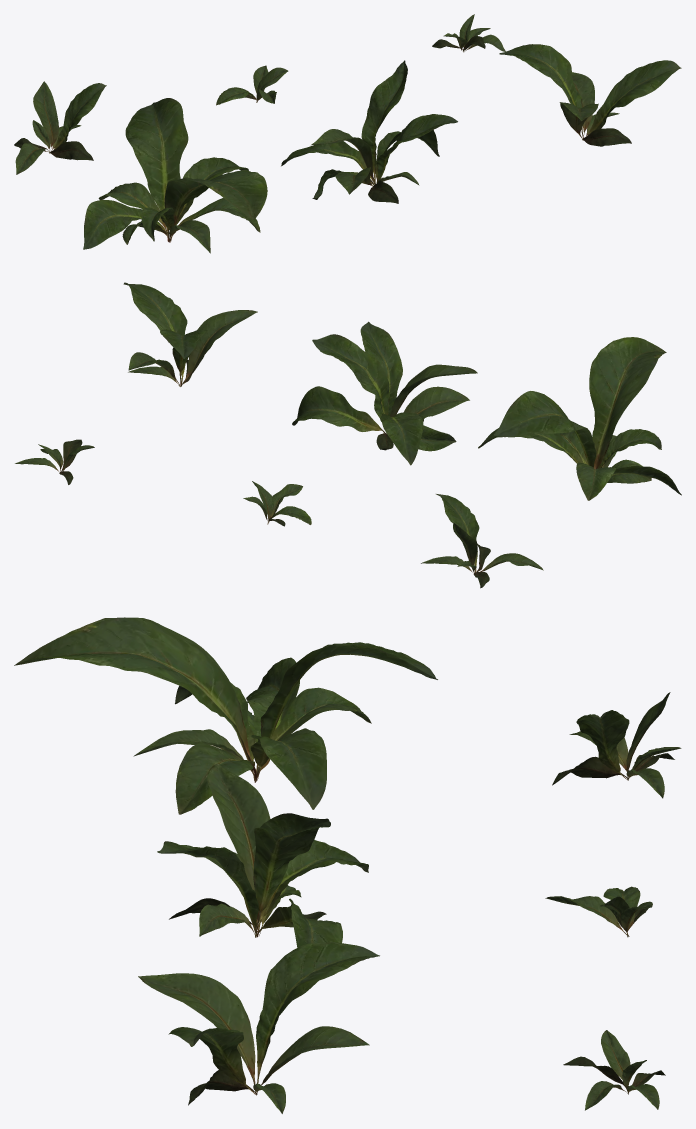
Rendered from anthurium_botany_01.glb.
3 views of the same model, one above another, from view 1: azimuth 30°, elevation 25°; view 2: azimuth 150°, elevation 25°; view 3: azimuth 270°, elevation 25° (orthographic). The views are drawn at different scales.
Parts seen in each view (by area): view 1: anthurium_botany_01_a; view 2: anthurium_botany_01_a; view 3: anthurium_botany_01_a.
Part boxes in pixels (x1,y1,x2,y2): anthurium_botany_01_a: (14, 14, 681, 253); anthurium_botany_01_a: (15, 282, 681, 588); anthurium_botany_01_a: (14, 617, 681, 1113).
Size of the model in its own units: 2.8 by 0.4994 by 1.8.
Materials: 1 (1 with a texture image).
